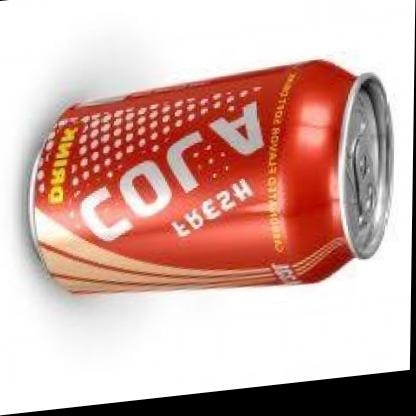trash: (29, 61, 392, 292)
